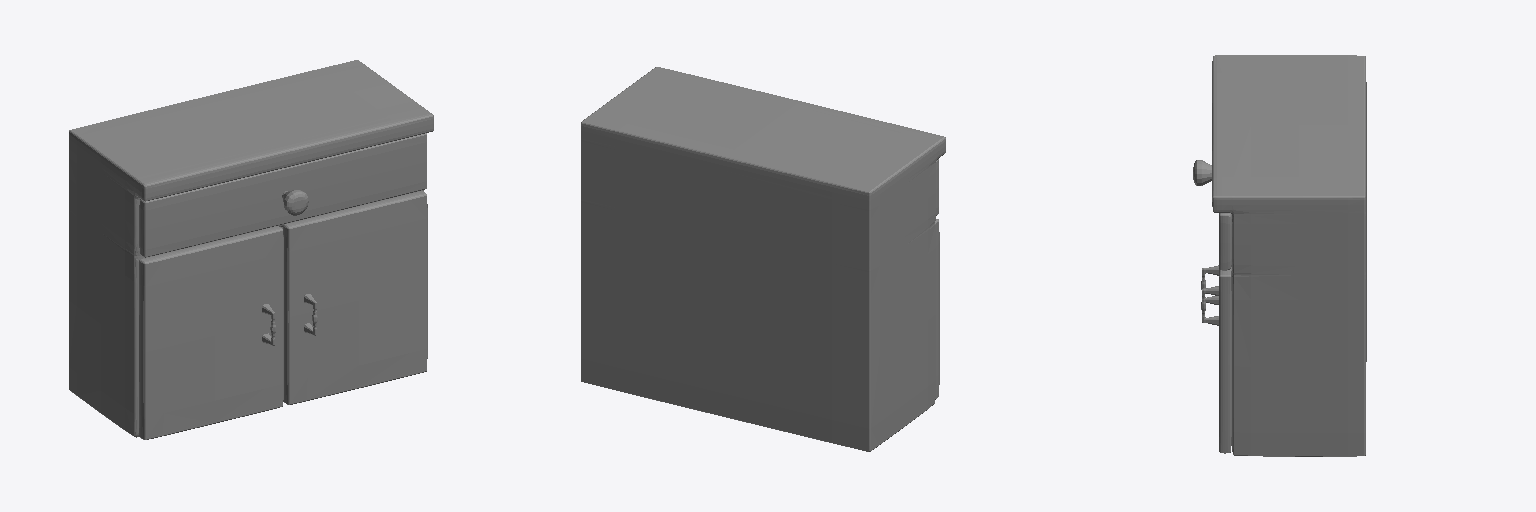
Rendered from gabinete.obj.
3 views of the same model, side by side, from view 1: azimuth 30°, elevation 25°; view 2: azimuth 150°, elevation 25°; view 3: azimuth 270°, elevation 25° (orthographic).
Parts seen in each view (by area): view 1: Base_Cube, Left_Door_Cube_008, Right_Door_Cube_016, Banister_Cube_007, Cube_005_Cube_009; view 2: Base_Cube, Left_Door_Cube_008; view 3: Base_Cube, Right_Door_Cube_016, Banister_Cube_007.
Boxes of the visible parts, <box> form: Base_Cube: <box>69,60,433,437</box>; Left_Door_Cube_008: <box>139,226,283,439</box>; Right_Door_Cube_016: <box>283,191,427,404</box>; Banister_Cube_007: <box>139,133,426,257</box>; Cube_005_Cube_009: <box>282,190,308,215</box>; Base_Cube: <box>581,67,945,451</box>; Left_Door_Cube_008: <box>935,219,939,399</box>; Base_Cube: <box>1212,55,1366,456</box>; Right_Door_Cube_016: <box>1219,267,1231,453</box>; Banister_Cube_007: <box>1219,213,1231,270</box>.
Size of the model in its own units: 5 by 4.3 by 2.58.